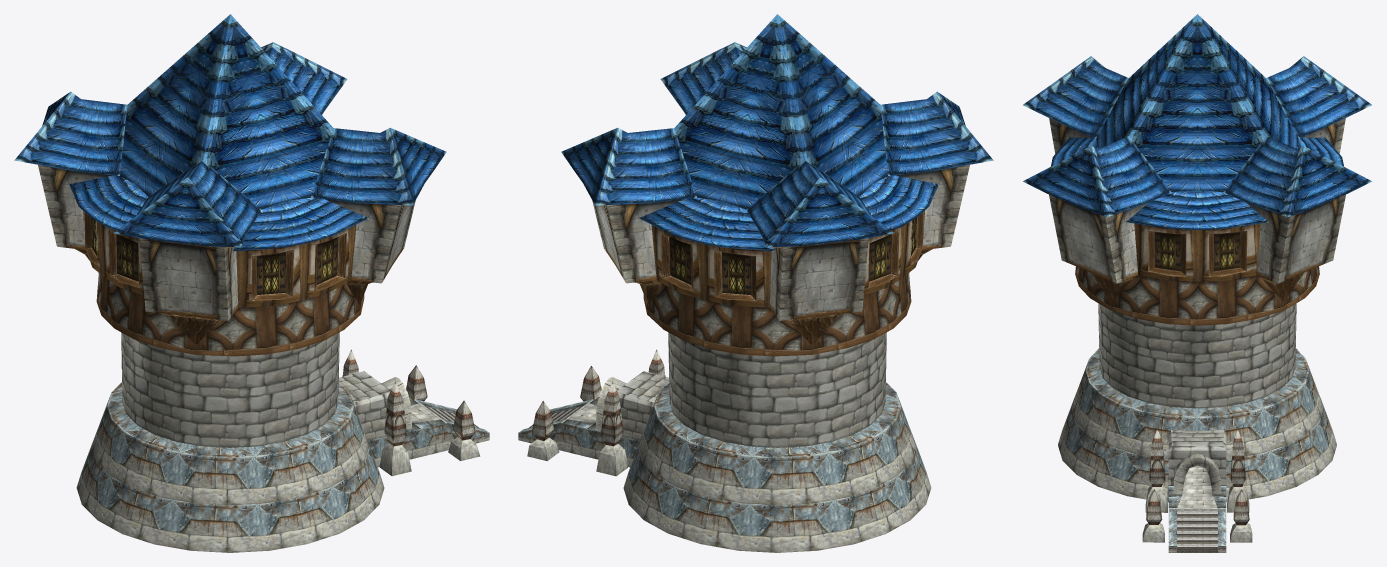
Rendered from magetower.glb.
3 renders of one model, left to right at view 1: azimuth 30°, elevation 25°; view 2: azimuth 150°, elevation 25°; view 3: azimuth 270°, elevation 25°, orthographic. The views are drawn at different scales.
Bounding box in the file's own units: 69.03 × 76.26 × 56.13.
Materials: 21 (21 with a texture image).
